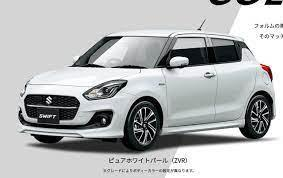Hatchback: (17, 27, 275, 152)
